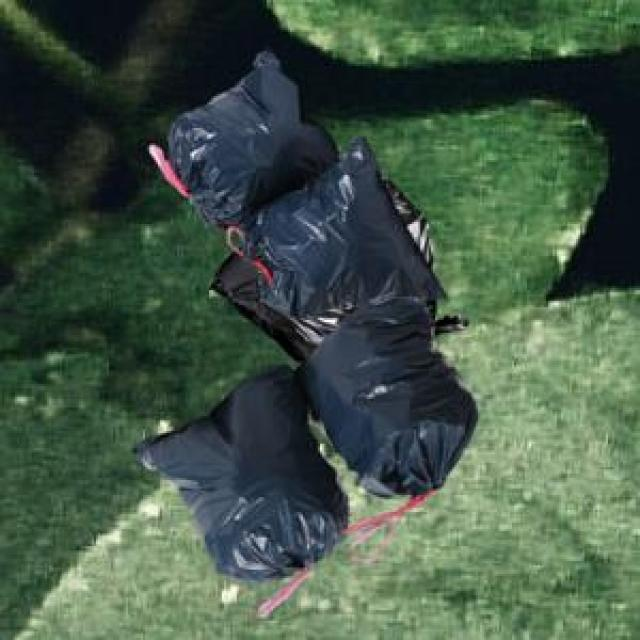Vinyl: (138, 52, 478, 579)
